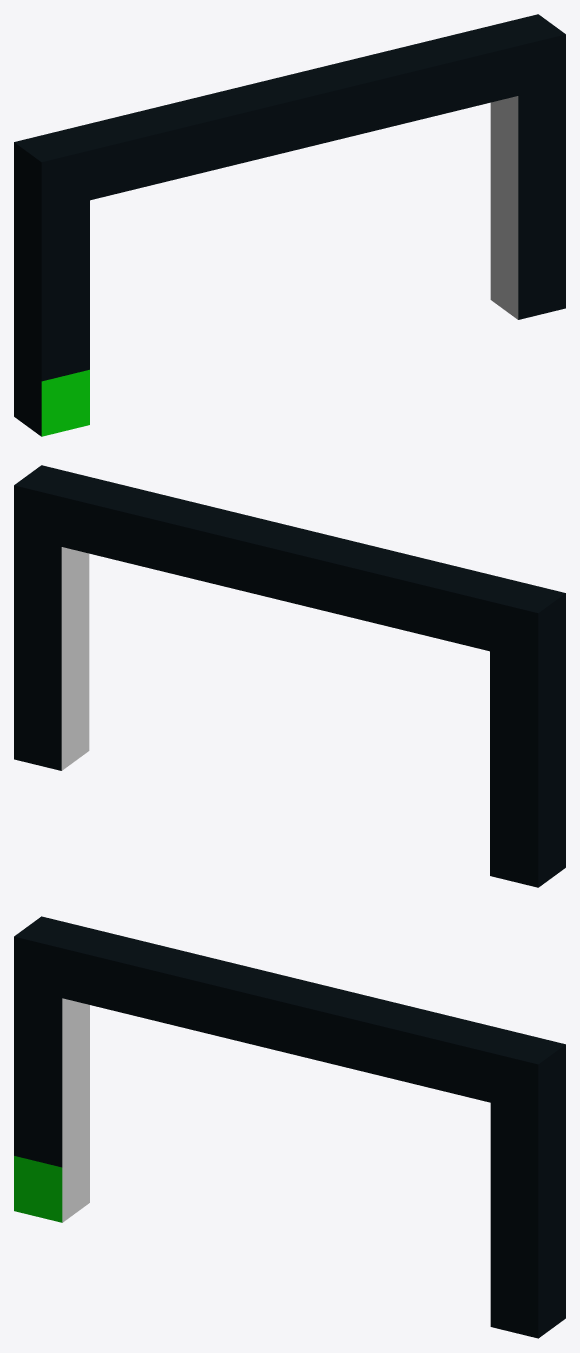
File: Puzzle2_update.fbx
3 renders of one model, top to bottom at view 1: azimuth 30°, elevation 25°; view 2: azimuth 150°, elevation 25°; view 3: azimuth 330°, elevation 25°, orthographic.
Parts seen in each view (by area): view 1: Cube; view 2: Cube; view 3: Cube.
Part boxes in pixels (x1=…): Cube: x1=14, y1=14, x2=565, y2=436; Cube: x1=14, y1=465, x2=565, y2=887; Cube: x1=14, y1=916, x2=565, y2=1338.
Bounding box in the file's own units: 2197 × 1099 × 200.
